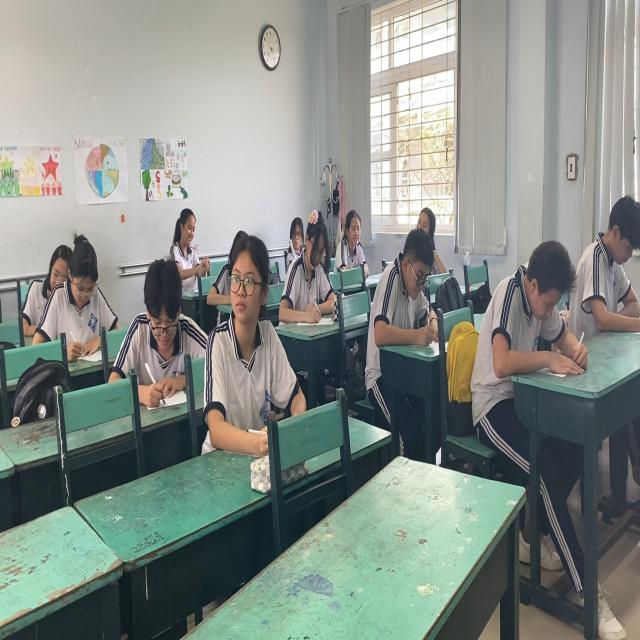cheating: (204, 226, 289, 434)
not_cheating: (492, 240, 581, 378), (36, 226, 116, 354), (124, 257, 200, 381), (373, 230, 441, 344), (589, 195, 640, 330), (279, 212, 334, 309), (324, 205, 373, 278), (170, 210, 216, 282)
